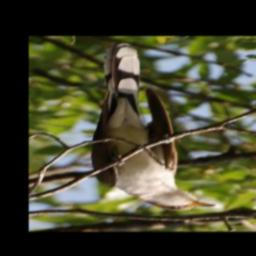Cuckoo: (88, 42, 218, 212)
